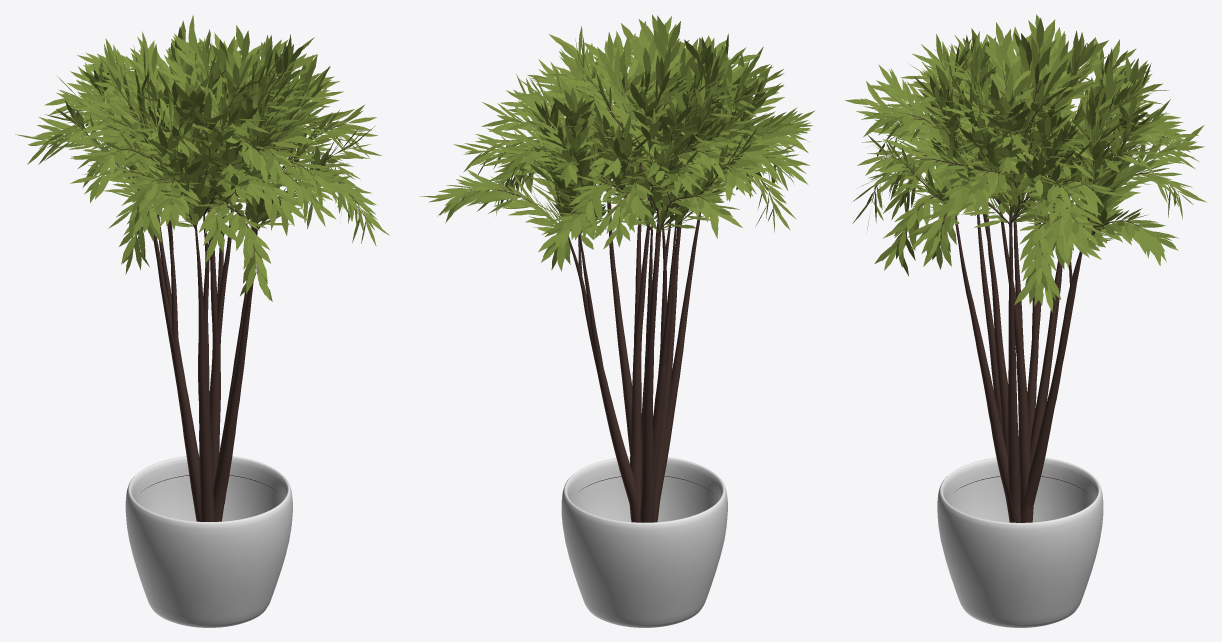
Rendered from house_tree_1.glb.
The picture shows the model from 3 angles, left to right: view 1: azimuth 30°, elevation 25°; view 2: azimuth 150°, elevation 25°; view 3: azimuth 270°, elevation 25°; orthographic projection.
Visible parts, largest first — view 1: leaves, Vert, tree; view 2: leaves, Vert, tree; view 3: leaves, Vert, tree.
Boxes of the visible parts, left/top/right/bottom form: leaves: left=15, top=15, right=389, bottom=301; Vert: left=125, top=455, right=292, bottom=627; tree: left=62, top=51, right=366, bottom=521; leaves: left=420, top=14, right=814, bottom=271; Vert: left=561, top=456, right=727, bottom=627; tree: left=470, top=50, right=779, bottom=522; leaves: left=844, top=14, right=1206, bottom=312; Vert: left=937, top=457, right=1103, bottom=627; tree: left=871, top=50, right=1178, bottom=522.
Size of the model in its own units: 2.12 by 3.71 by 2.16.
